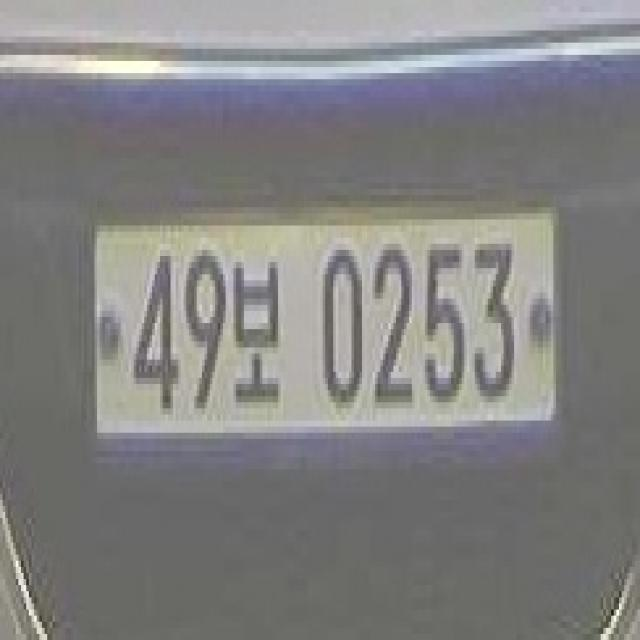0: (319, 240, 365, 412)
2: (370, 241, 420, 408)
3: (472, 232, 521, 410)
4: (132, 234, 176, 423)
5: (421, 227, 468, 410)
9: (188, 237, 226, 413)
bo: (230, 246, 292, 414)
license_plate: (80, 196, 578, 454)
